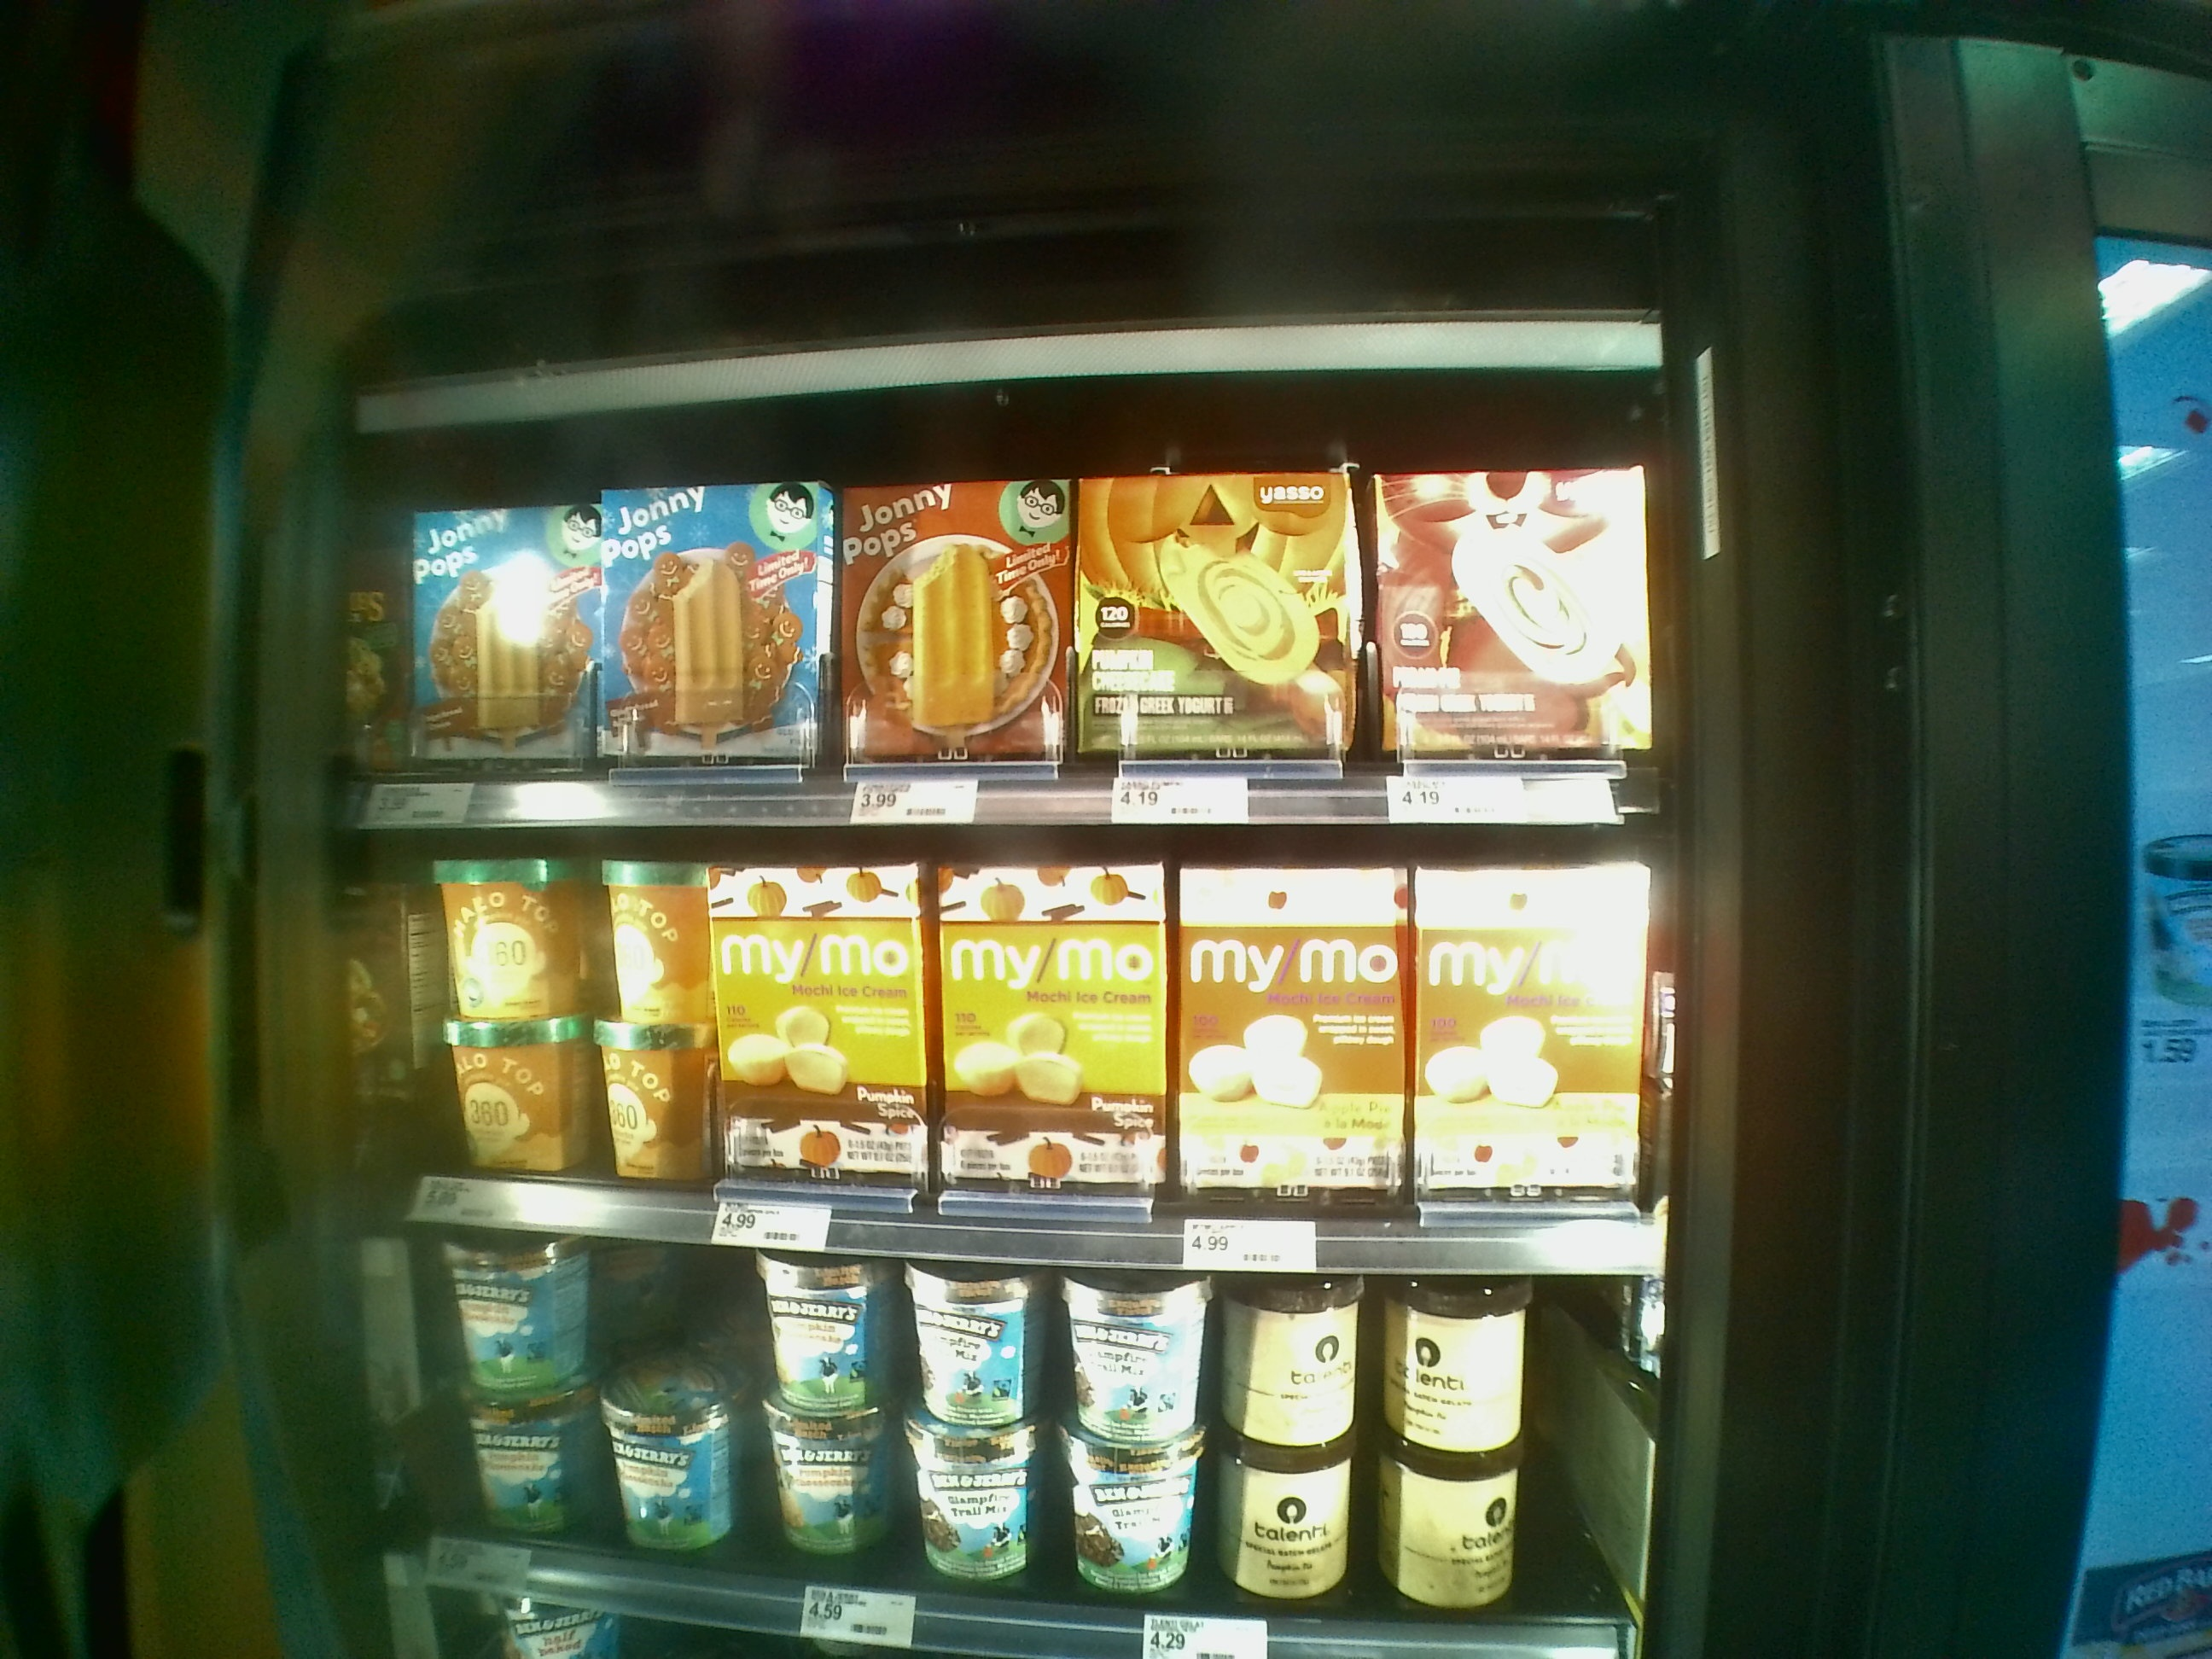shelf: (364, 791, 1656, 1270), (359, 375, 1649, 840)
